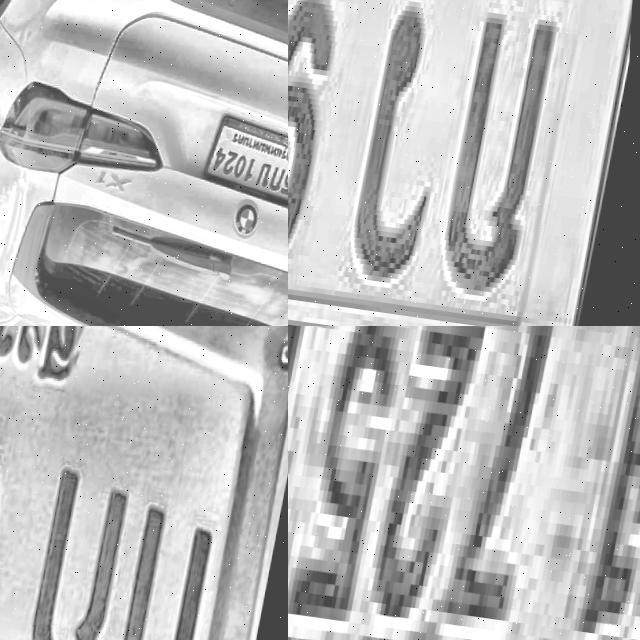license-plate: (288, 0, 640, 326), (288, 326, 640, 640), (0, 326, 288, 640), (199, 110, 288, 214)
